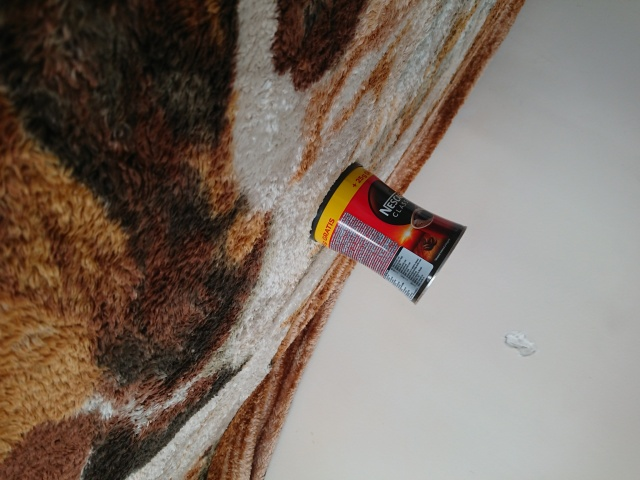Nescafe Classic 225g: (307, 159, 470, 307)
